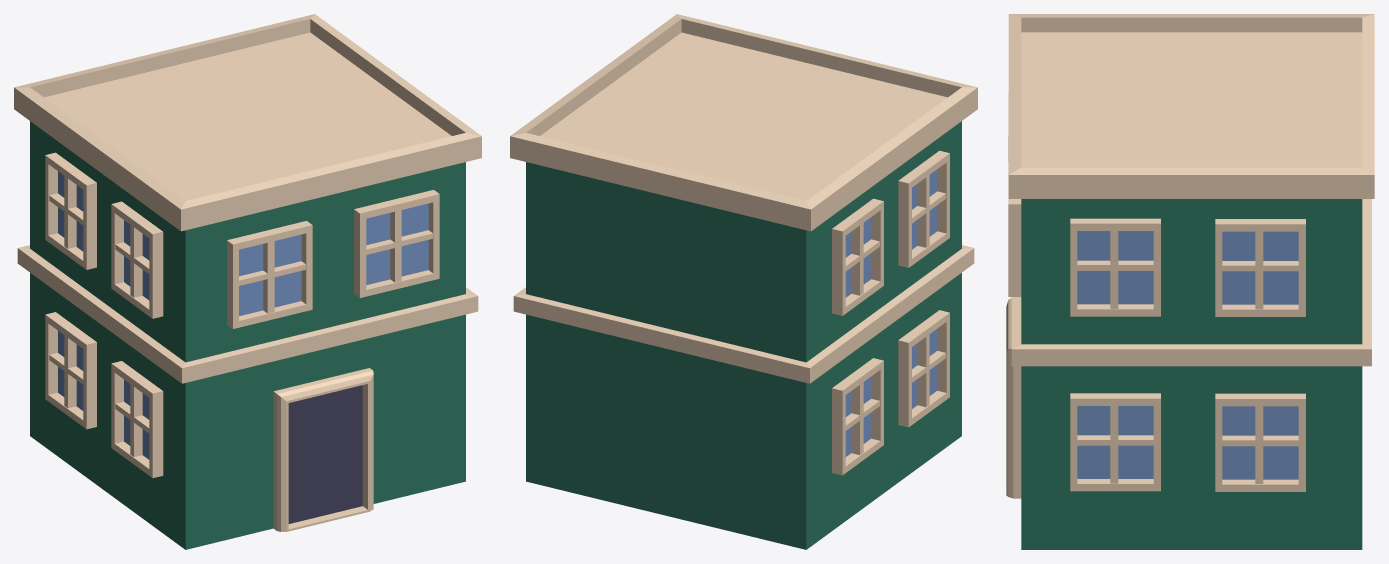
The model's file is building ijo.fbx.
3 views of the same model, side by side, from view 1: azimuth 30°, elevation 25°; view 2: azimuth 150°, elevation 25°; view 3: azimuth 270°, elevation 25° (orthographic). The views are drawn at different scales.
Parts seen in each view (by area): view 1: building ijo; view 2: building ijo; view 3: building ijo.
Part boxes in pixels (box(x1,y1,x2,y2)): building ijo: box(14, 14, 481, 549); building ijo: box(510, 14, 977, 549); building ijo: box(1006, 14, 1374, 549).
Bounding box in the file's own units: 749 × 829 × 723.
1 material, 1 textured.
